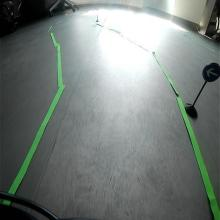left: (202, 60, 220, 83)
